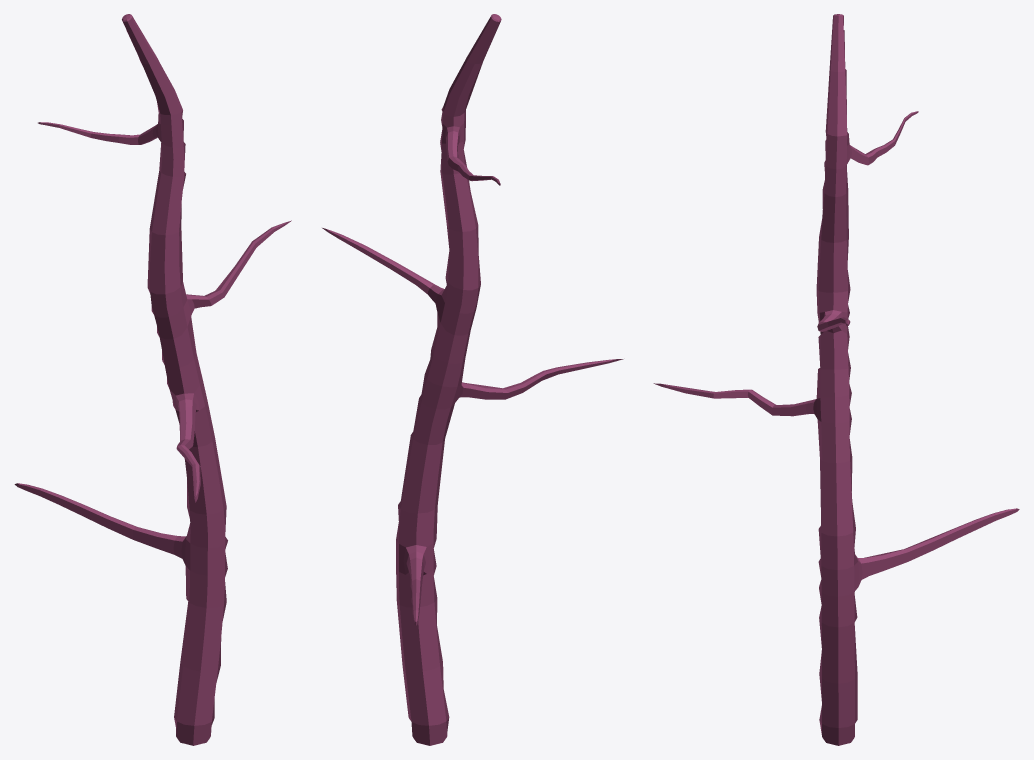
Rendered from stem.obj.
The picture shows the model from 3 angles, left to right: view 1: azimuth 30°, elevation 25°; view 2: azimuth 150°, elevation 25°; view 3: azimuth 270°, elevation 25°; orthographic projection. The views are drawn at different scales.
Visible parts, largest first — view 1: stem_low; view 2: stem_low; view 3: stem_low.
Part boxes in pixels (left/top/right/bottom): stem_low: left=14, top=14, right=291, bottom=745; stem_low: left=322, top=14, right=623, bottom=745; stem_low: left=653, top=14, right=1019, bottom=745.
Size of the model in its own units: 1.13 by 3.69 by 1.76.
